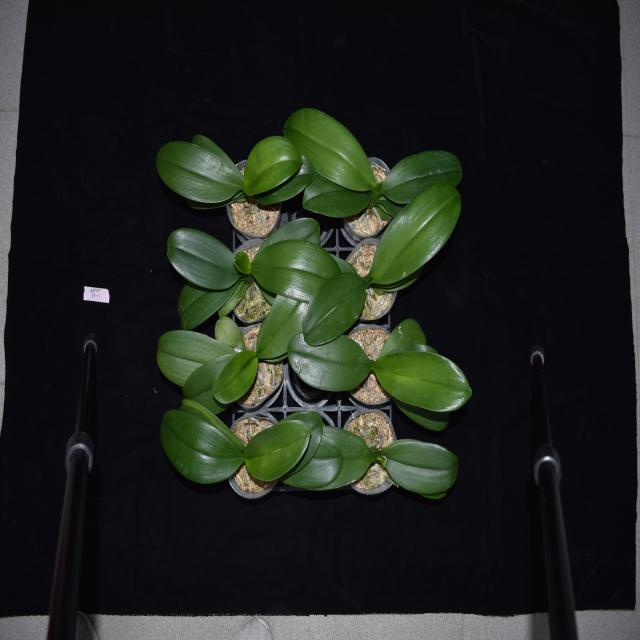leaf: (366, 180, 464, 283), (284, 105, 377, 192), (160, 408, 246, 484), (376, 348, 472, 415), (252, 239, 341, 304), (153, 137, 241, 202), (303, 274, 369, 348), (288, 332, 373, 388), (241, 417, 313, 483), (379, 148, 464, 202), (156, 330, 235, 387), (167, 226, 239, 286), (383, 442, 459, 498), (316, 424, 379, 491), (242, 137, 303, 195), (255, 295, 308, 361), (178, 276, 244, 326), (286, 430, 340, 490), (254, 216, 321, 260), (301, 178, 374, 217), (284, 407, 326, 473), (183, 352, 233, 407), (377, 310, 431, 357), (259, 159, 316, 203), (216, 349, 258, 405), (392, 394, 452, 432), (213, 312, 244, 352), (231, 244, 251, 273)
